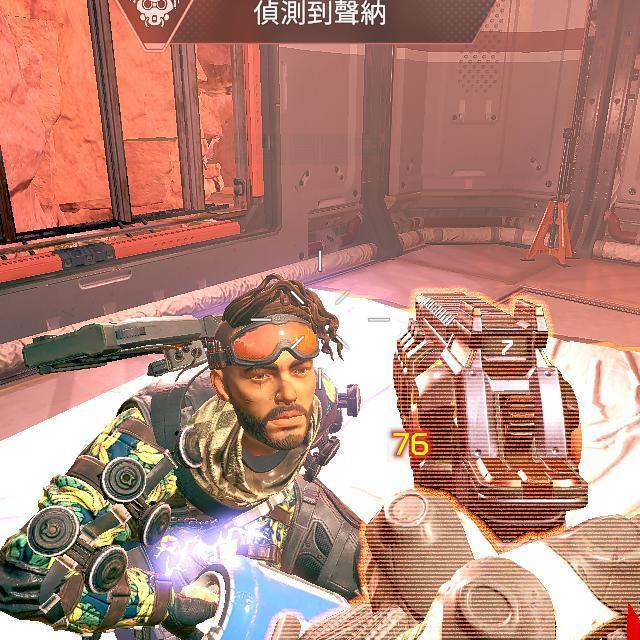avatar: (1, 272, 361, 640)
